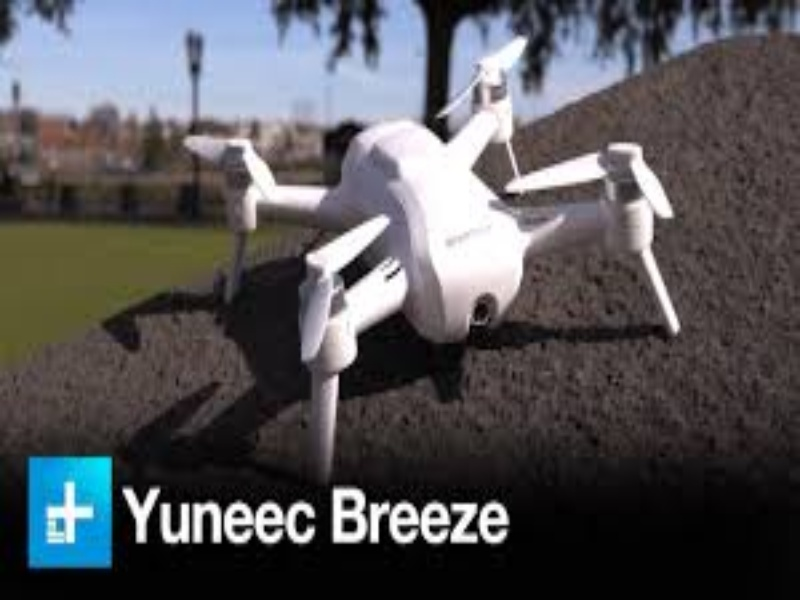drone: (180, 39, 691, 481)
